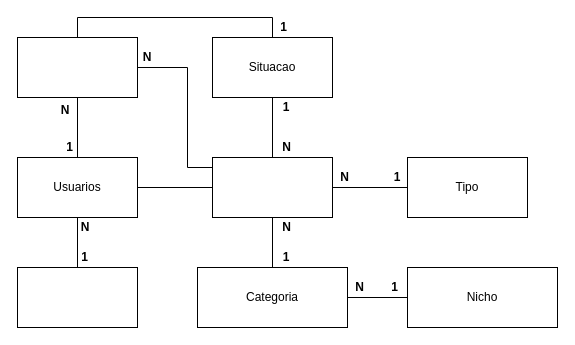
This 575x345 diagram has some shape labels left out. The shapes that lost their labels are listed below. From the top down, each one's centre as x and y in pixels, then its label:
At (77,67): "Ofertas".
At (272,187): "Classificados".
At (77,297): "TipoUsuarios".
